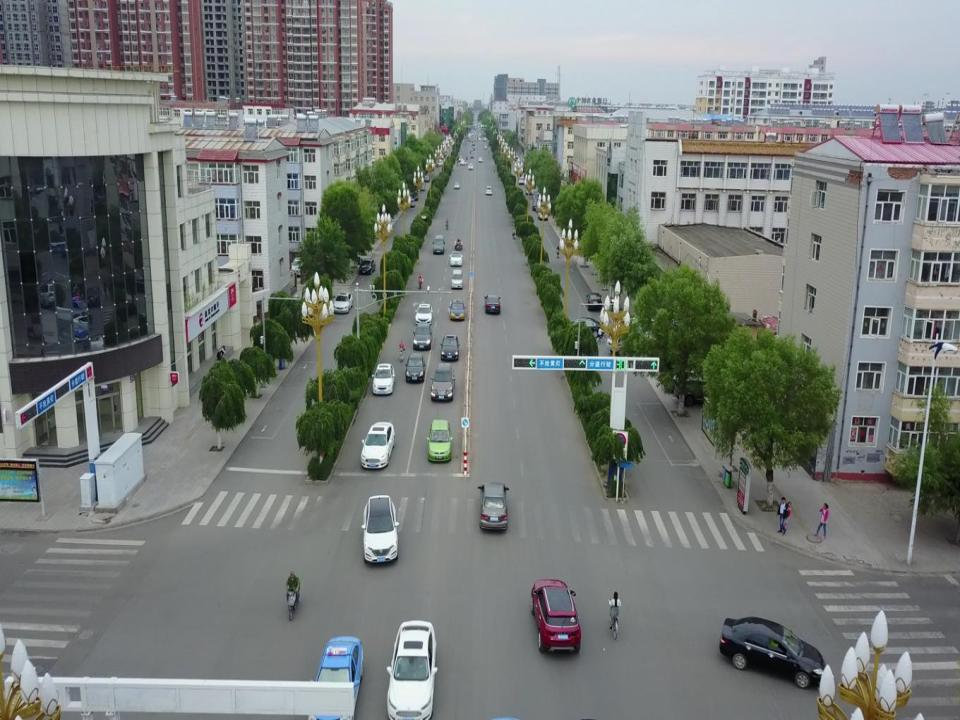car: (718, 615, 826, 690), (386, 621, 442, 720), (309, 637, 363, 720), (532, 581, 582, 656), (362, 494, 399, 565), (674, 371, 733, 406), (361, 422, 395, 470), (478, 481, 510, 531), (430, 362, 455, 401), (428, 420, 451, 461), (372, 362, 394, 395), (567, 319, 603, 338), (404, 353, 426, 383), (439, 335, 459, 361), (412, 323, 432, 349), (414, 303, 433, 327), (333, 292, 354, 312), (449, 299, 464, 321), (485, 294, 500, 314), (358, 258, 374, 275), (587, 292, 602, 310), (485, 185, 492, 194), (454, 182, 460, 188)
van: (607, 324, 657, 356), (433, 234, 444, 255), (449, 250, 463, 266), (452, 268, 463, 288)
